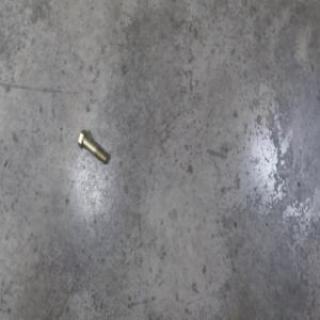Bolttrack_idkeyframe: (76, 128, 107, 166)
